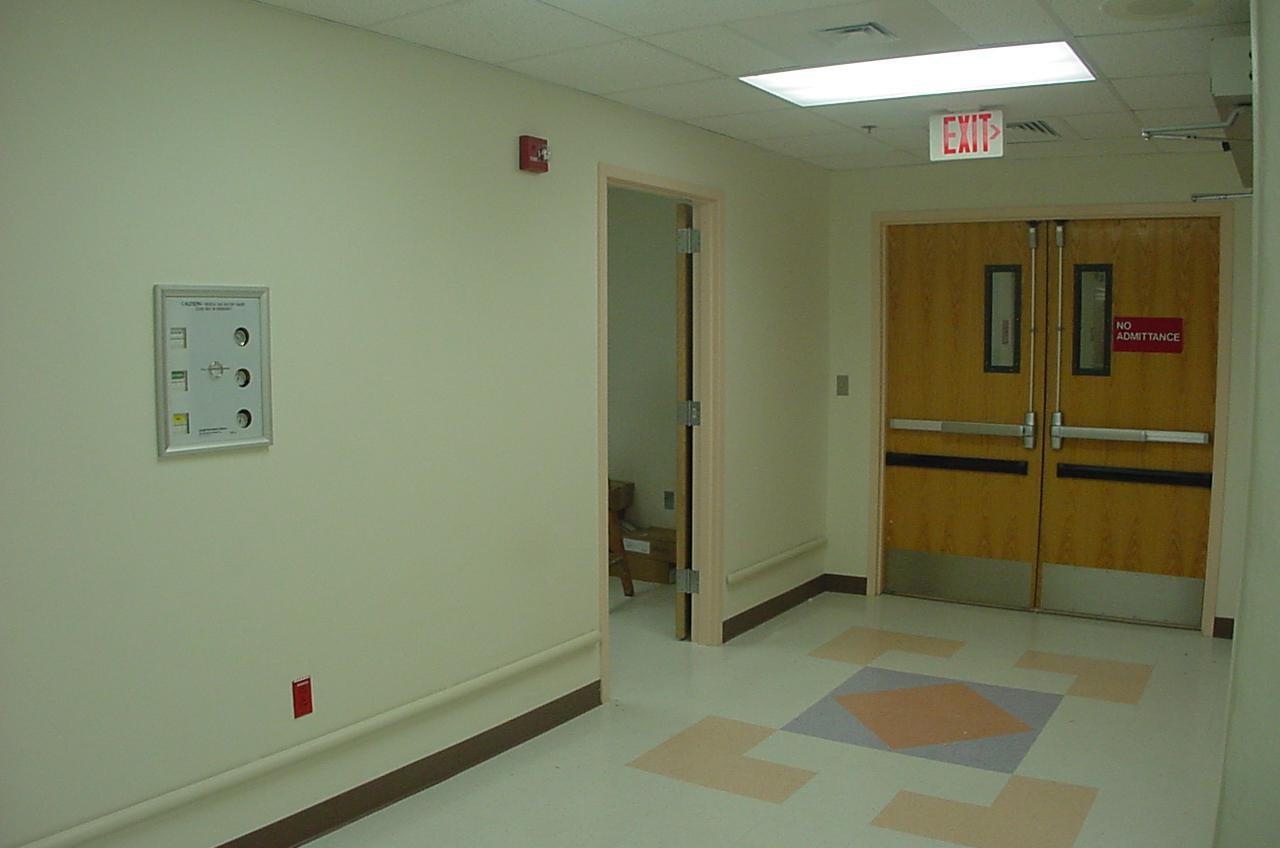Puerta: (868, 200, 1212, 627)
